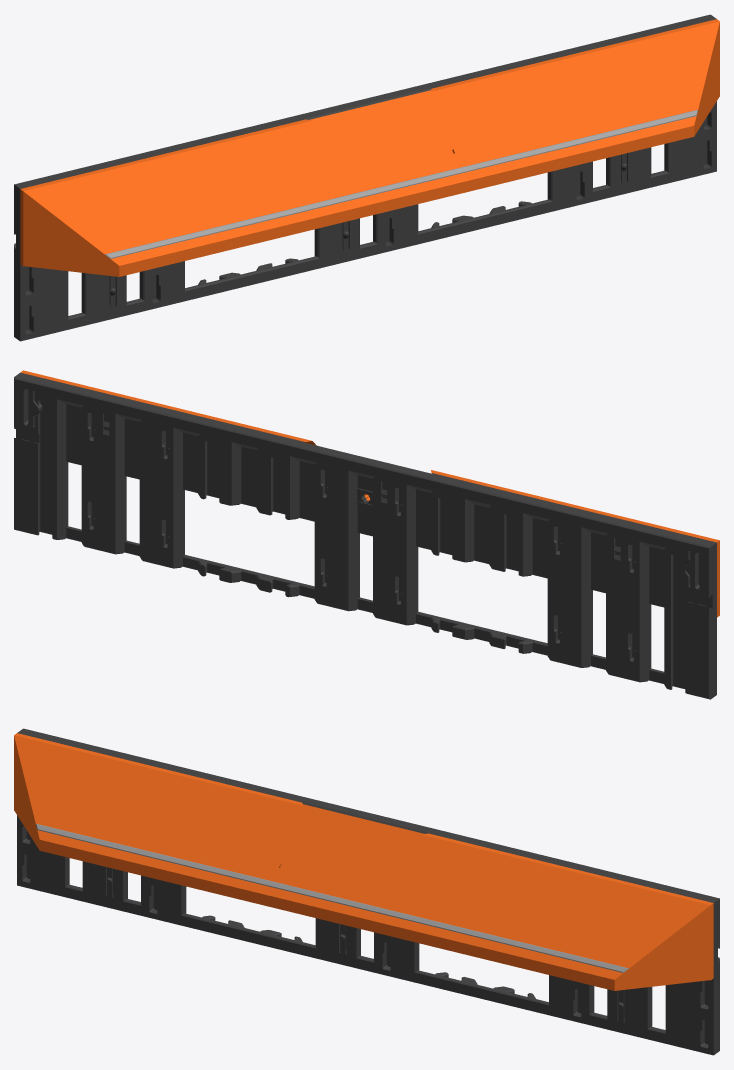
The model's file is Faceplate_ClassicPro_3W-1H.lib.glb.
The picture shows the model from 3 angles, top to bottom: view 1: azimuth 30°, elevation 25°; view 2: azimuth 150°, elevation 25°; view 3: azimuth 330°, elevation 25°; orthographic projection.
Visible parts, largest first — view 1: Faceplate_ClassicPro_3W-1H; view 2: Faceplate_ClassicPro_3W-1H; view 3: Faceplate_ClassicPro_3W-1H.
Boxes of the visible parts, x1,y1,x2,y2 form: Faceplate_ClassicPro_3W-1H: (14, 14, 719, 341); Faceplate_ClassicPro_3W-1H: (14, 370, 719, 699); Faceplate_ClassicPro_3W-1H: (14, 728, 719, 1055).
Size of the model in its own units: 263 by 55 by 29.5.
